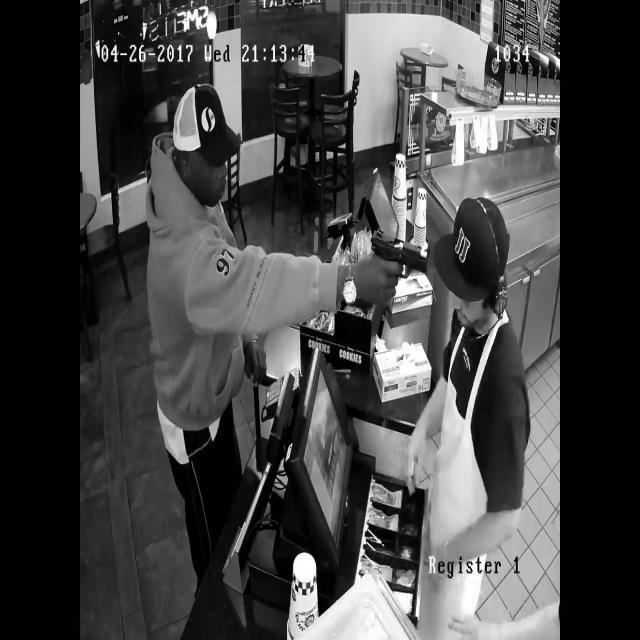Gun: (357, 206, 440, 298)
